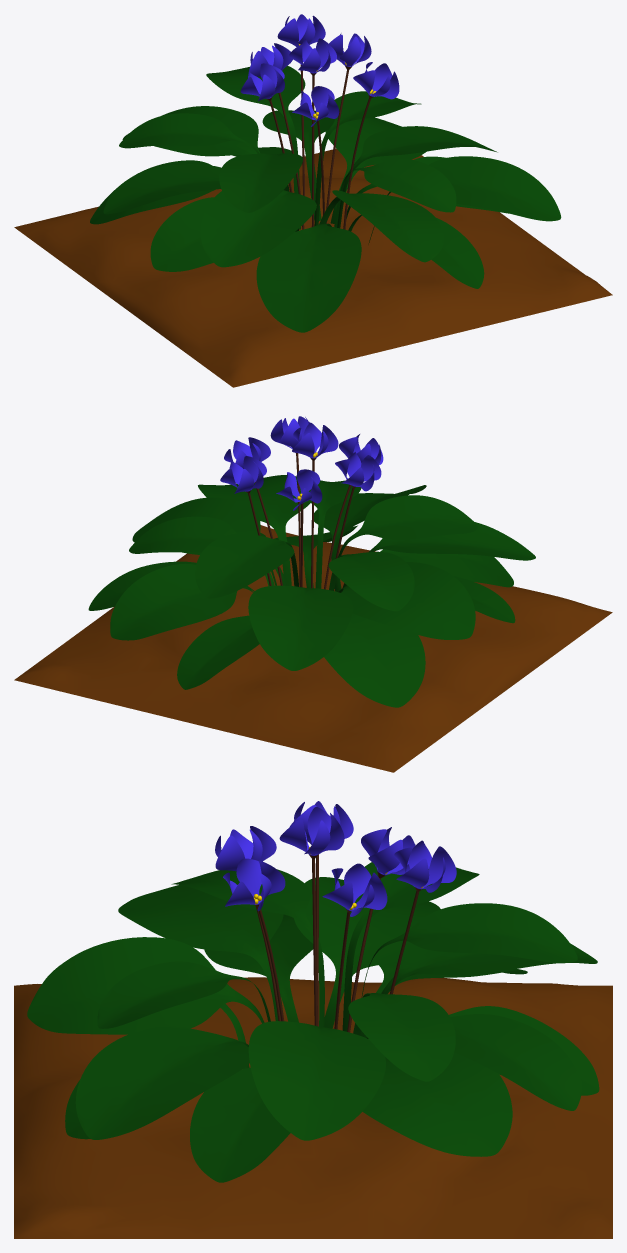
Rendered from violets-p3-bloom.glb.
3 views of the same model, one above another, from view 1: azimuth 30°, elevation 25°; view 2: azimuth 150°, elevation 25°; view 3: azimuth 270°, elevation 25° (orthographic). The views are drawn at different scales.
Visible parts, largest first — view 1: 3_nft_bloom; view 2: 3_nft_bloom; view 3: 3_nft_bloom.
Part boxes in pixels (box(x1,y1,x2,y2)): 3_nft_bloom: box(14, 14, 612, 387); 3_nft_bloom: box(14, 416, 612, 772); 3_nft_bloom: box(14, 801, 612, 1238).
Size of the model in its own units: 0.7 by 0.3845 by 0.7.
